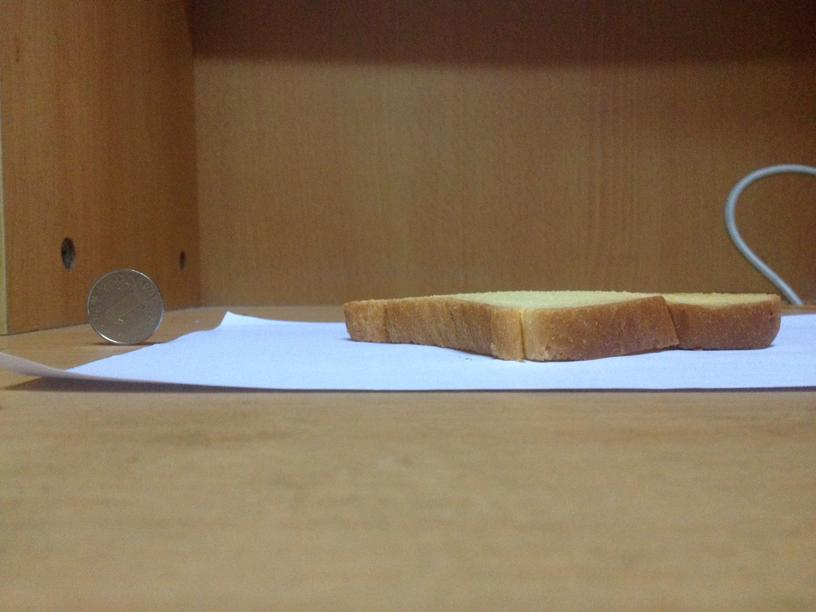bread: (347, 284, 779, 361)
coin: (82, 268, 163, 344)
